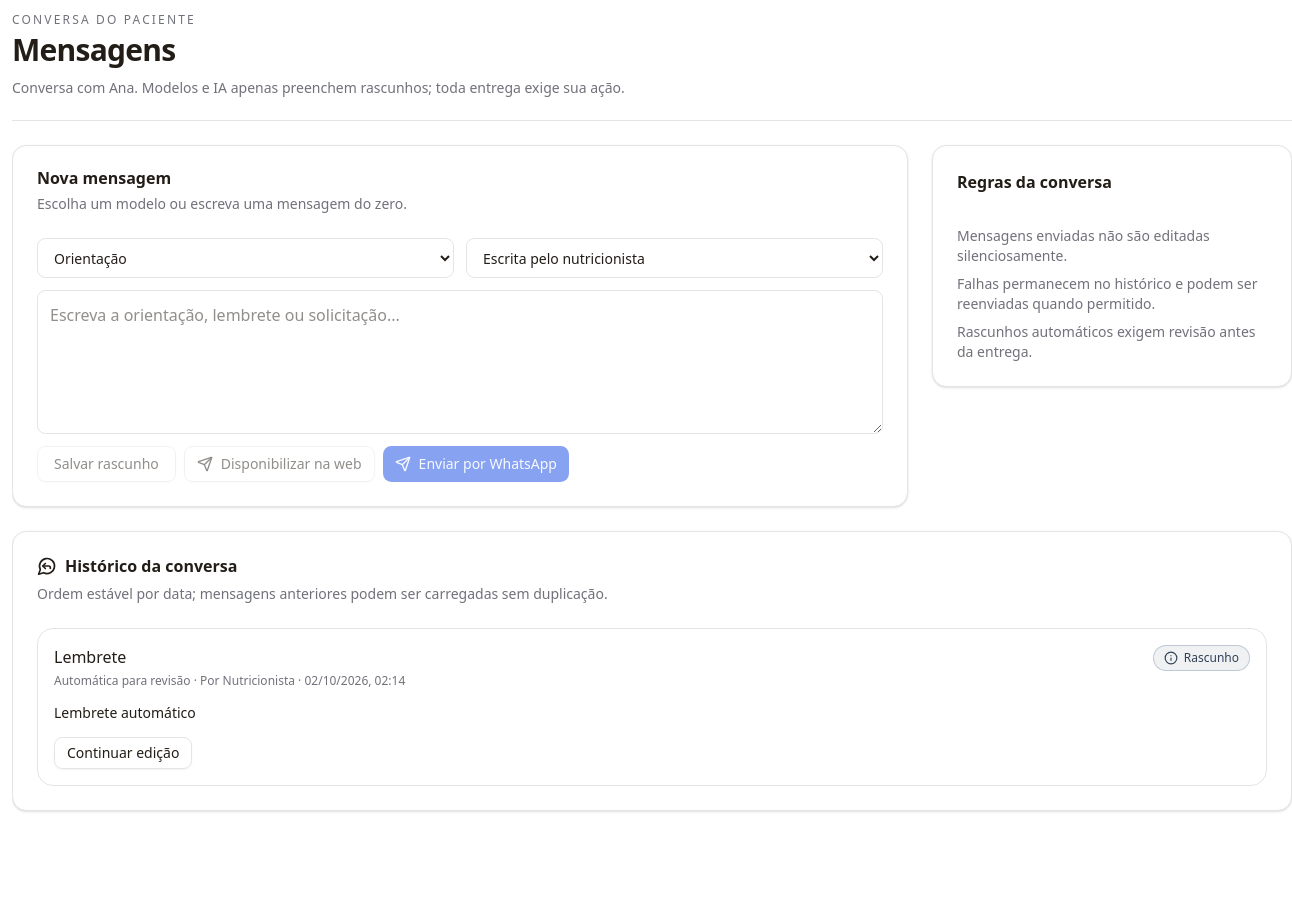
Test: ProfessionalMessagesExperience › requires review of automatic drafts before delivery
The width and height of the screenshot is (1292, 912).
Click the button "Continuar edição" at point(123, 753), box [54,737,192,769]
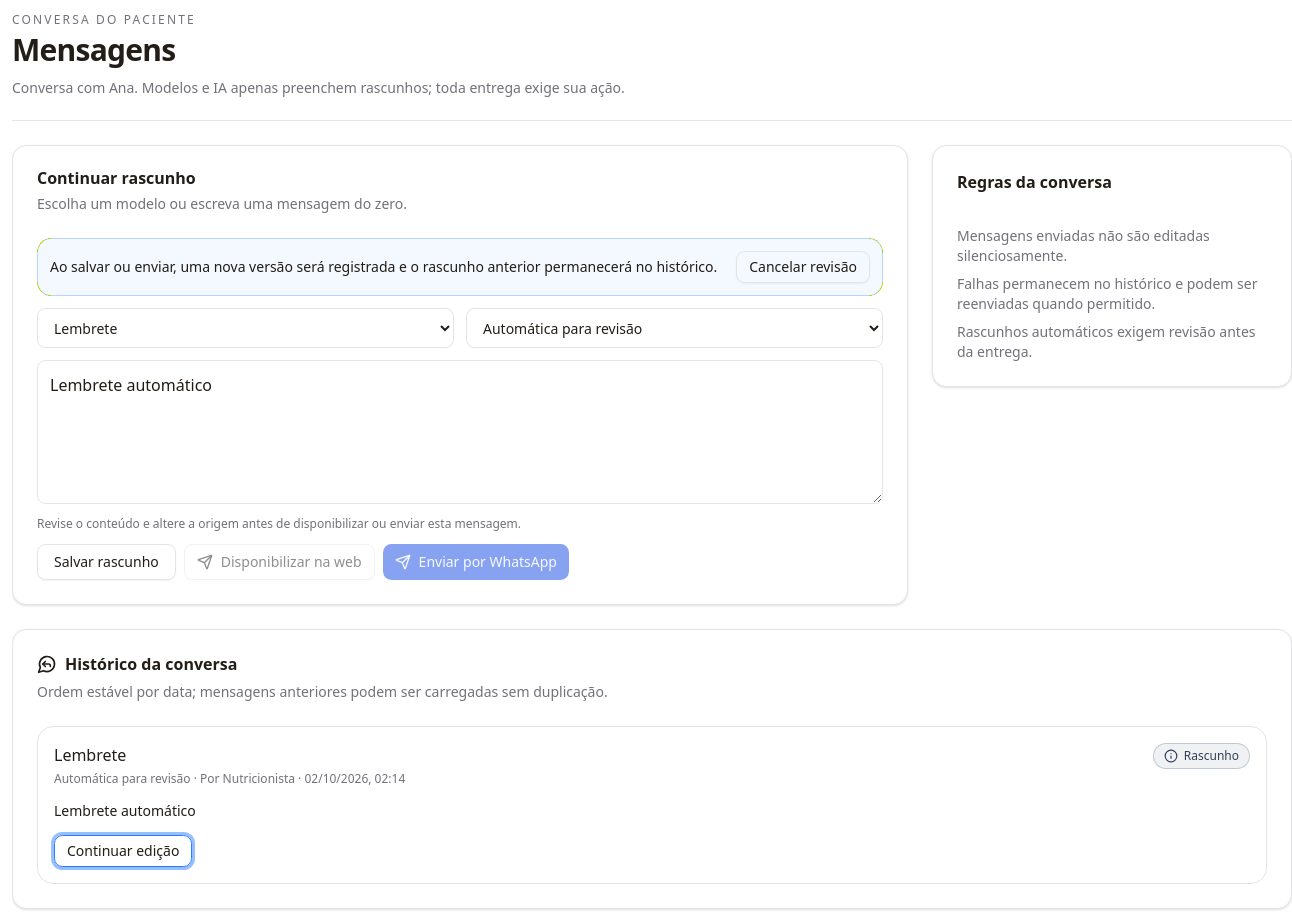
Check: the button "Enviar por WhatsApp" is disabled, box [383,544,569,580]
Select "Escrita pelo nutricionista" in the dropdown named "Origem da mensagem" at point(674, 328), box [466,308,883,348]
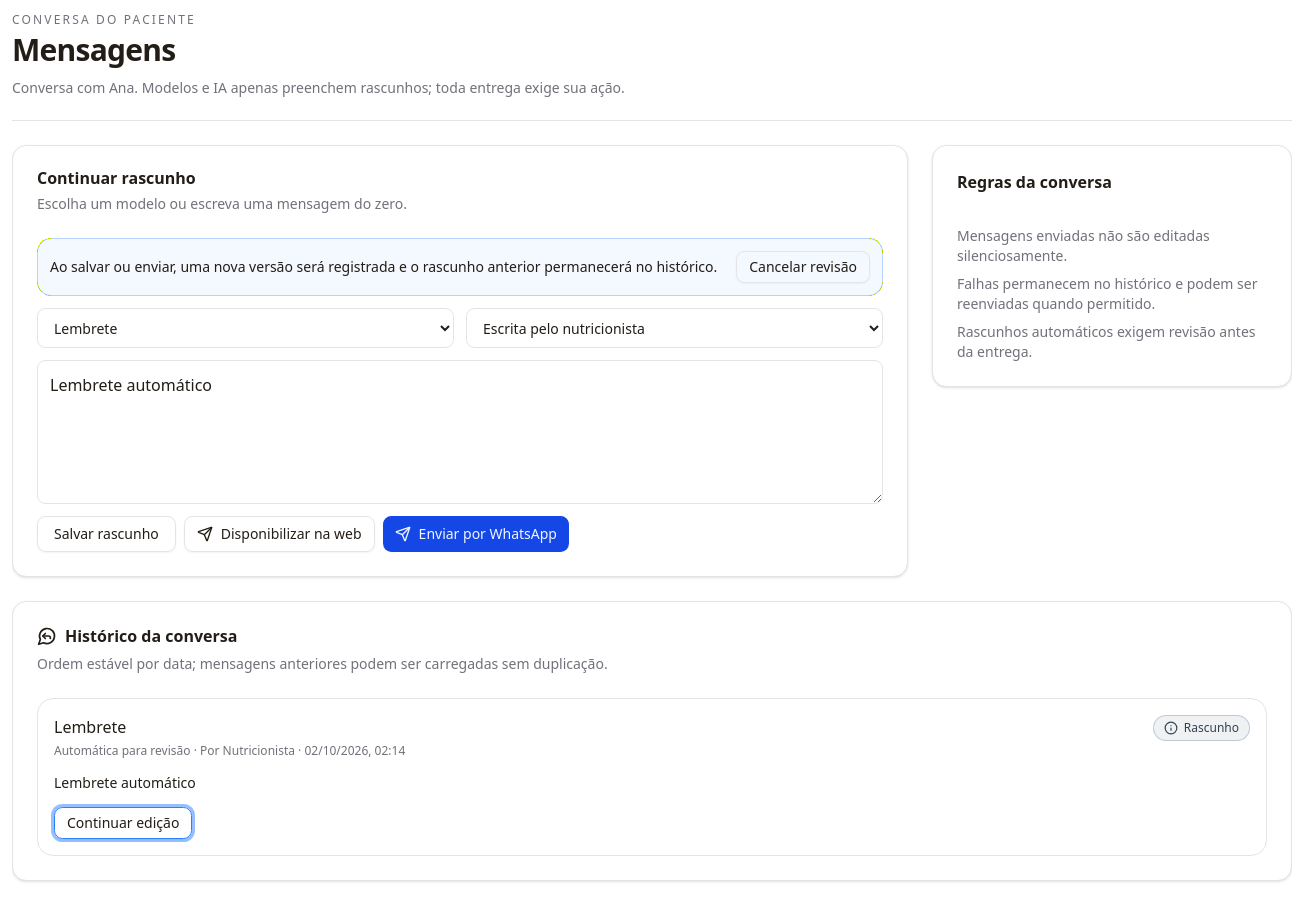
Check: the button "Enviar por WhatsApp" is enabled, box [383,516,569,552]
